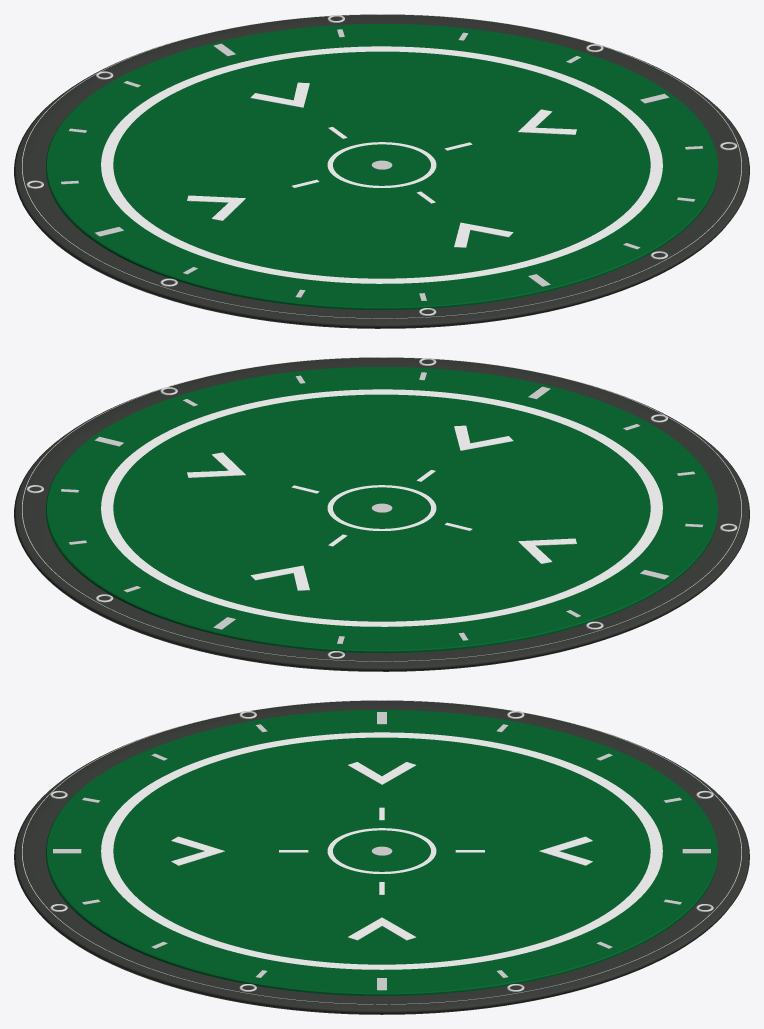
Rendered from landing-pad.glb.
3 renders of one model, top to bottom at view 1: azimuth 30°, elevation 25°; view 2: azimuth 150°, elevation 25°; view 3: azimuth 270°, elevation 25°, orthographic.
Parts seen in each view (by area): view 1: body; view 2: body; view 3: body.
Part boxes in pixels (x1=…): body: x1=14, y1=14, x2=749, y2=328; body: x1=14, y1=357, x2=749, y2=671; body: x1=14, y1=700, x2=749, y2=1014.
Bounding box in the file's own units: 3 × 0.0517 × 3.
